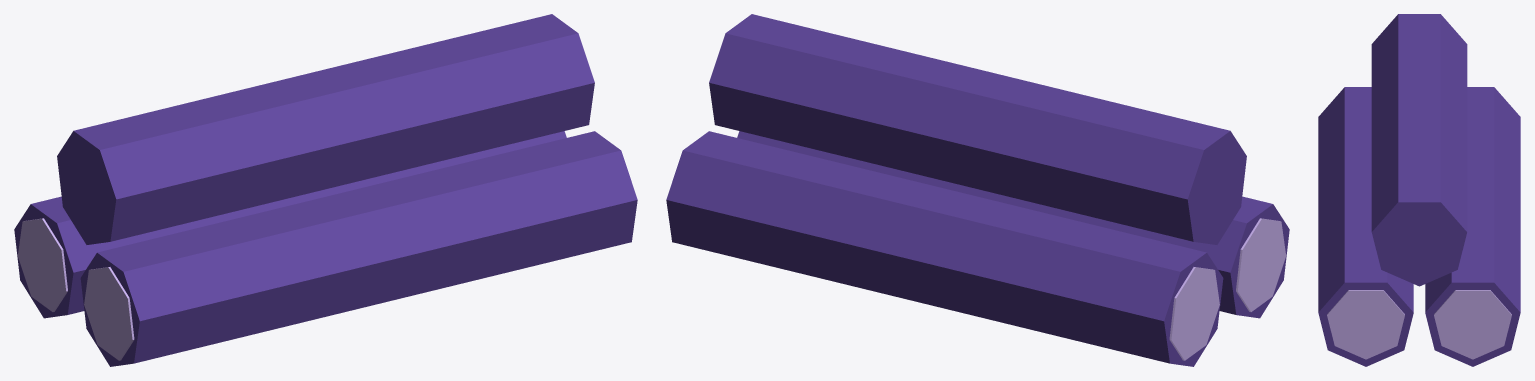
The model's file is drop_logs_magic.glb.
The picture shows the model from 3 angles, left to right: view 1: azimuth 30°, elevation 25°; view 2: azimuth 150°, elevation 25°; view 3: azimuth 270°, elevation 25°; orthographic projection. The views are drawn at different scales.
Visible parts, largest first — view 1: drop_logs_magic; view 2: drop_logs_magic; view 3: drop_logs_magic.
Part boxes in pixels (box(x1,y1,x2,y2)): drop_logs_magic: box(14, 14, 637, 366); drop_logs_magic: box(666, 14, 1289, 366); drop_logs_magic: box(1318, 14, 1520, 366).
Bounding box in the file's own units: 0.524 × 0.1996 × 0.2272.
